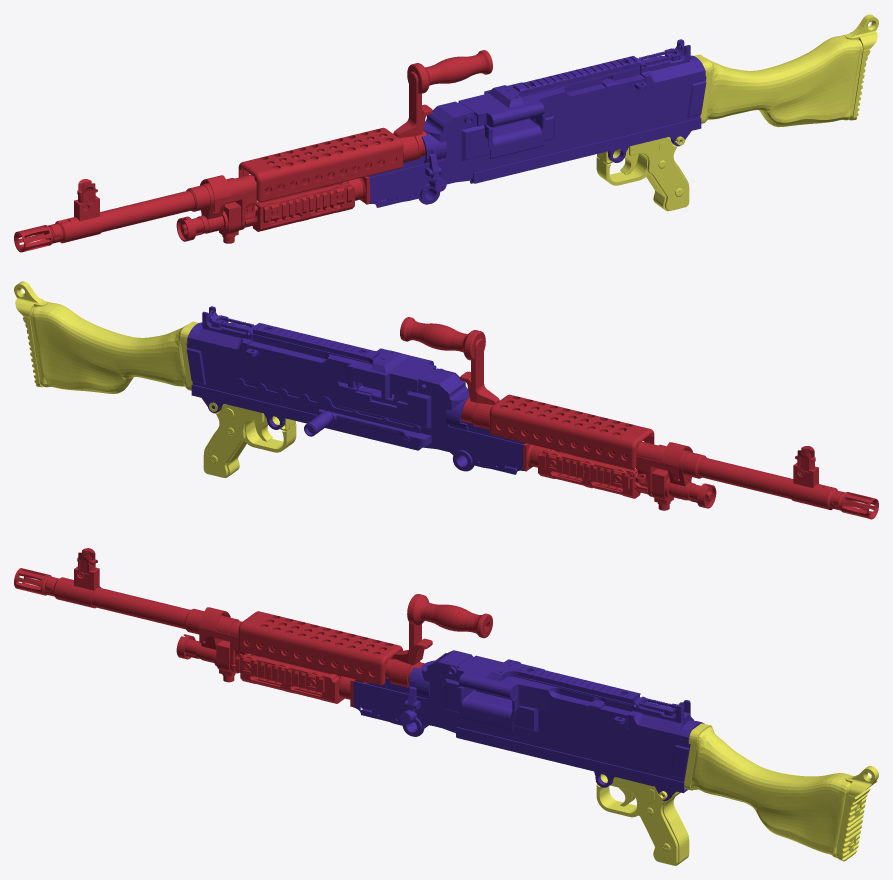
The model's file is Weapon_Portfolio_03.glb.
3 renders of one model, top to bottom at view 1: azimuth 30°, elevation 25°; view 2: azimuth 150°, elevation 25°; view 3: azimuth 330°, elevation 25°, orthographic.
Visible parts, largest first — view 1: Buttstock_Low_10.002, Body_Low_12.001, HeatShield_Low_01.003, TopCover_Low_01.001, Barrel_Low_01.002, Body_Low_06.003, Body_Low_04.001, Trigger_Low_02.001, Handle_Low_03.002, TopCover_Low_02.002, Picatinny_Low__001.001, RearSight_Low__002.001 (+17 smaller); view 2: Buttstock_Low_10.002, HeatShield_Low_01.003, Body_Low_12.001, TopCover_Low_01.001, Barrel_Low_01.002, Body_Low_04.001, Body_Low_06.003, Body_Low_02.001, Trigger_Low_02.001, Handle_Low_03.002, Picatinny_Low__001.001, RearSight_Low__002.001 (+18 smaller); view 3: Buttstock_Low_10.002, Body_Low_12.001, HeatShield_Low_01.003, TopCover_Low_01.001, Barrel_Low_01.002, Body_Low_06.003, Body_Low_04.001, Trigger_Low_02.001, Handle_Low_03.002, TopCover_Low_02.002, Buttstock_Low_05.001, Picatinny_Low__001.001 (+11 smaller).
Part boxes in pixels (x1=…): Buttstock_Low_10.002: x1=705, y1=34, x2=860, y2=127; Body_Low_12.001: x1=432, y1=76, x2=706, y2=184; HeatShield_Low_01.003: x1=238, y1=127, x2=403, y2=202; TopCover_Low_01.001: x1=458, y1=68, x2=645, y2=127; Barrel_Low_01.002: x1=100, y1=130, x2=427, y2=232; Body_Low_06.003: x1=470, y1=117, x2=701, y2=183; Body_Low_04.001: x1=367, y1=155, x2=445, y2=207; Trigger_Low_02.001: x1=629, y1=137, x2=689, y2=210; Handle_Low_03.002: x1=407, y1=50, x2=492, y2=94; TopCover_Low_02.002: x1=484, y1=115, x2=545, y2=158; Picatinny_Low__001.001: x1=512, y1=56, x2=640, y2=97; RearSight_Low__002.001: x1=637, y1=39, x2=695, y2=92; Buttstock_Low_10.002: x1=32, y1=301, x2=187, y2=393; HeatShield_Low_01.003: x1=489, y1=394, x2=654, y2=468; Body_Low_12.001: x1=186, y1=343, x2=462, y2=451; TopCover_Low_01.001: x1=248, y1=336, x2=436, y2=401; Barrel_Low_01.002: x1=460, y1=397, x2=793, y2=498; Body_Low_04.001: x1=447, y1=421, x2=525, y2=474; Body_Low_06.003: x1=191, y1=384, x2=421, y2=450; Body_Low_02.001: x1=338, y1=381, x2=431, y2=428; Trigger_Low_02.001: x1=203, y1=404, x2=264, y2=477; Handle_Low_03.002: x1=400, y1=317, x2=485, y2=360; Picatinny_Low__001.001: x1=252, y1=323, x2=380, y2=363; RearSight_Low__002.001: x1=197, y1=306, x2=255, y2=359; Buttstock_Low_10.002: x1=691, y1=727, x2=850, y2=858; Body_Low_12.001: x1=429, y1=650, x2=690, y2=781; HeatShield_Low_01.003: x1=238, y1=611, x2=402, y2=685; TopCover_Low_01.001: x1=456, y1=655, x2=632, y2=730; Barrel_Low_01.002: x1=92, y1=587, x2=424, y2=687; Body_Low_06.003: x1=456, y1=727, x2=687, y2=793; Body_Low_04.001: x1=353, y1=678, x2=430, y2=736; Trigger_Low_02.001: x1=618, y1=777, x2=689, y2=865; Handle_Low_03.002: x1=407, y1=594, x2=492, y2=638; TopCover_Low_02.002: x1=457, y1=686, x2=519, y2=730; Buttstock_Low_05.001: x1=838, y1=766, x2=878, y2=861; Picatinny_Low__001.001: x1=512, y1=664, x2=640, y2=705.
Bounding box in the file's own units: 1.28 × 0.2885 × 0.1238.
